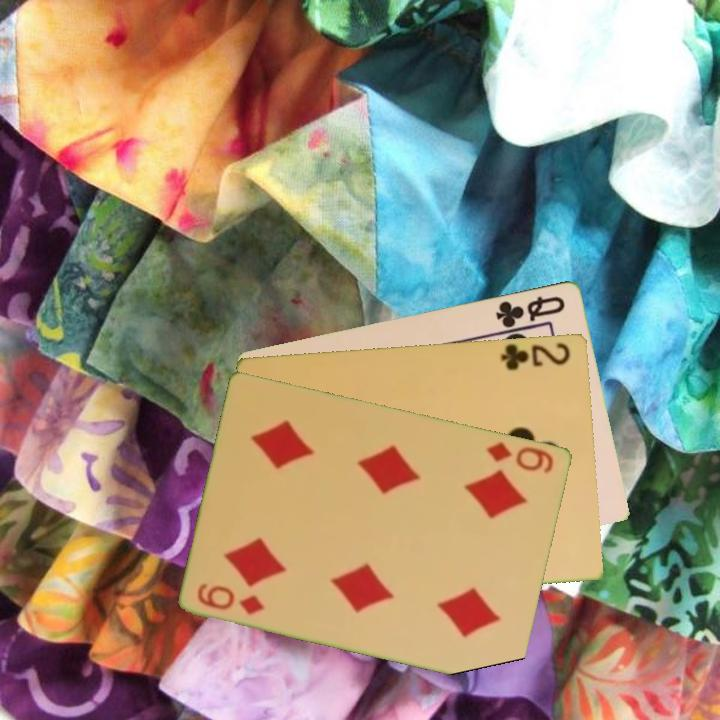2c: (498, 339, 573, 373)
6d: (483, 438, 557, 476), (194, 579, 268, 617)
Qc: (492, 292, 569, 330)
